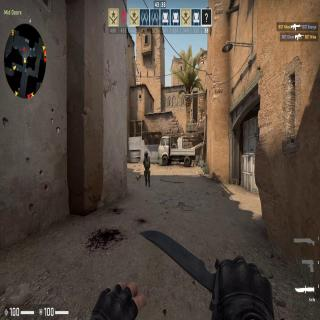CT-Body: (143, 151, 151, 187)
CT-Head: (144, 151, 148, 158)
